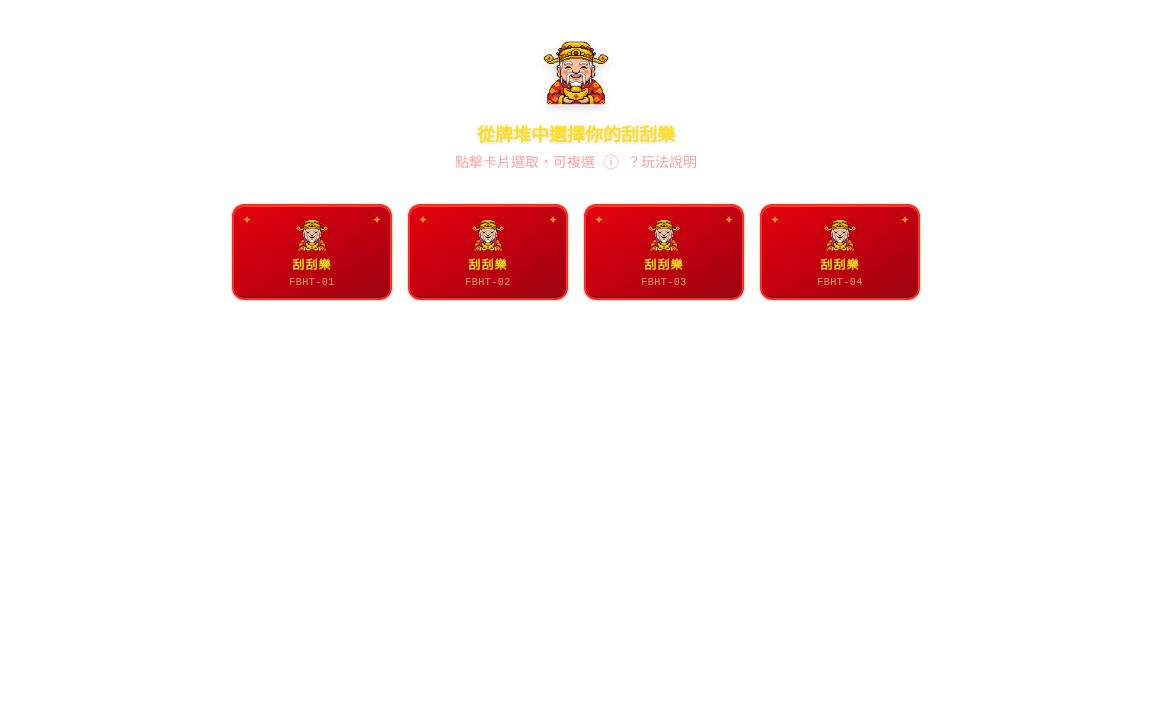
Scenario: CardPile › 點擊 ⓘ 按鈕應開啟獎池 Modal
Click the button named "查看獎池" at [611, 162], box top-left (603, 154), bottom-right (619, 170)
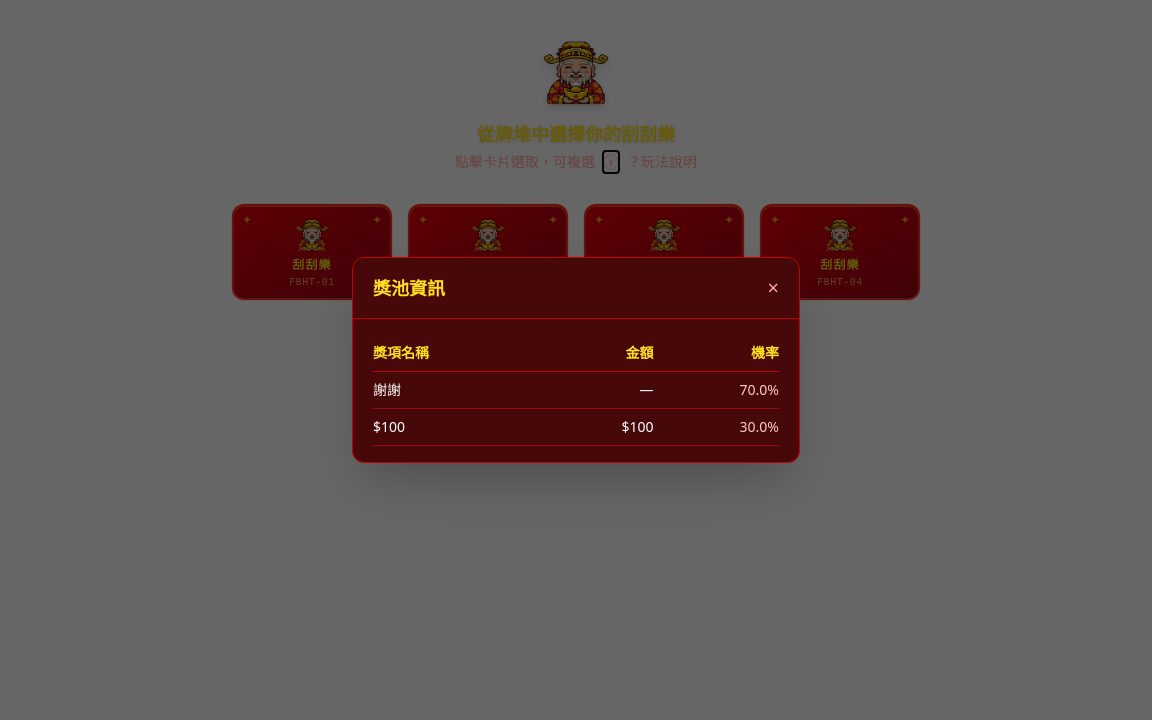
Check: the dialog "獎池資訊 × 獎項名稱 金額 機率 謝謝 — 70.0% $100 $100 30.0%" is shown
